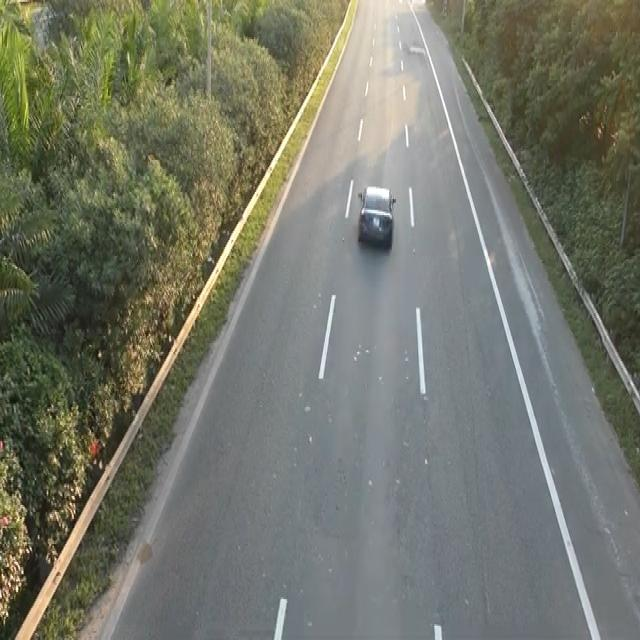bus: (355, 181, 396, 249)
